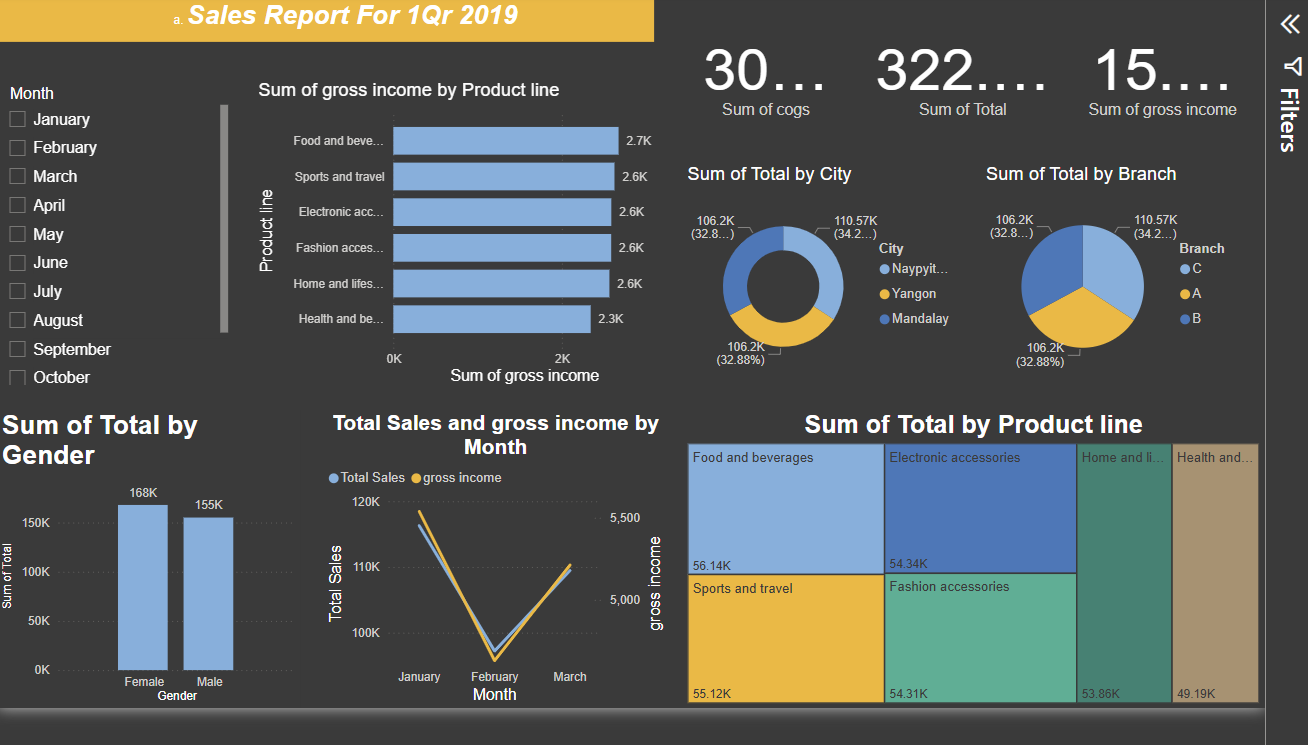

Layout of this report page (visuals, bound fields, positions):
{"tool":"powerbi","page":{"name":"Page 1","canvas":[1280,720],"ordinal":0},"visuals":[{"type":"card","fields":{"Values":["Sum(supermarket_sales - Sheet1.gross income)"]},"box":[1088.5,0,175.7,156.9],"z":0},{"type":"card","fields":{"Values":["Sum(supermarket_sales - Sheet1.Total)"]},"box":[880.6,0,187.1,156.9],"z":1000},{"type":"card","fields":{"Values":["Sum(supermarket_sales - Sheet1.cogs)"]},"box":[691.7,0,168.2,156.9],"z":2000},{"type":"pieChart","fields":{"Category":["supermarket_sales - Sheet1.Branch"],"Y":["Sum(supermarket_sales - Sheet1.Total)"]},"box":[994,170.1,270.2,228.7],"z":3000},{"type":"donutChart","fields":{"Category":["supermarket_sales - Sheet1.City"],"Y":["Sum(supermarket_sales - Sheet1.Total)"]},"box":[691.7,170.1,287.2,228.7],"z":4000},{"type":"treemap","fields":{"Group":["supermarket_sales - Sheet1.Product line"],"Values":["Sum(supermarket_sales - Sheet1.Total)"]},"box":[691.7,419.5,587.7,300.5],"z":5000},{"type":"columnChart","fields":{"Category":["supermarket_sales - Sheet1.Gender"],"Y":["Sum(supermarket_sales - Sheet1.Total)"]},"box":[0,419.5,306.1,300.5],"z":6000},{"type":"slicer","fields":{"Values":["supermarket_sales - Sheet1.Date.Variation.Date Hierarchy.Month"]},"box":[0,85,238.1,313.7],"z":6002},{"type":"lineChart","fields":{"Category":["supermarket_sales - Sheet1.Date.Variation.Date Hierarchy.Month"],"Y":["Sum(supermarket_sales - Sheet1.Total)"],"Y2":["Sum(supermarket_sales - Sheet1.gross income)"]},"box":[328.8,419.5,349.6,300.5],"z":6003},{"type":"clusteredBarChart","fields":{"Category":["supermarket_sales - Sheet1.Product line"],"Y":["Sum(supermarket_sales - Sheet1.gross income)"]},"box":[258.9,85,419.5,313.7],"z":6004},{"type":"textbox","box":[0,0,663.3,47.2],"z":6005}]}

Visuals, with their boxes on the page's 1280x720 design canvas (x1, y1, x2, y2). These are canvas units, not pixel positions in the 1308x745 screenshot, which may show the page scaled, cropped or inside an application window:
card - Sum(supermarket_sales - Sheet1.gross income): 1088:0:1264:157
card - Sum(supermarket_sales - Sheet1.Total): 881:0:1068:157
card - Sum(supermarket_sales - Sheet1.cogs): 692:0:860:157
pieChart - supermarket_sales - Sheet1.Branch x Sum(supermarket_sales - Sheet1.Total): 994:170:1264:399
donutChart - supermarket_sales - Sheet1.City x Sum(supermarket_sales - Sheet1.Total): 692:170:979:399
treemap - supermarket_sales - Sheet1.Product line x Sum(supermarket_sales - Sheet1.Total): 692:420:1279:720
columnChart - supermarket_sales - Sheet1.Gender x Sum(supermarket_sales - Sheet1.Total): 0:420:306:720
slicer - supermarket_sales - Sheet1.Date.Variation.Date Hierarchy.Month: 0:85:238:399
lineChart - supermarket_sales - Sheet1.Date.Variation.Date Hierarchy.Month x Sum(supermarket_sales - Sheet1.Total): 329:420:678:720
clusteredBarChart - supermarket_sales - Sheet1.Product line x Sum(supermarket_sales - Sheet1.gross income): 259:85:678:399
textbox: 0:0:663:47
